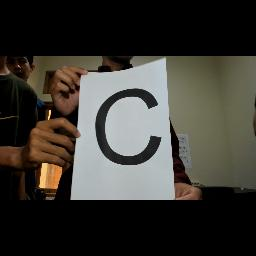c: (88, 87, 164, 171)
